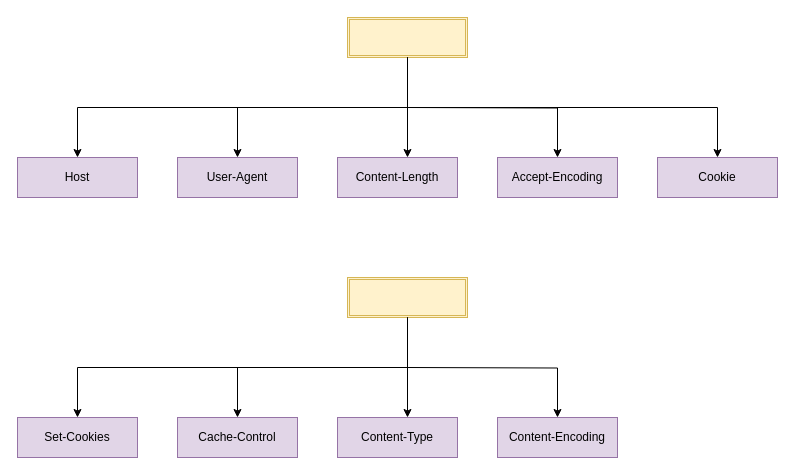
This 795x475 diagram has some shape labels left out. The shapes that lost their labels are listed below. From the top down, each one's centre as x and y in pixels, then its label:
(x=407, y=37): Common Request Header
(x=407, y=297): Common Response Header
